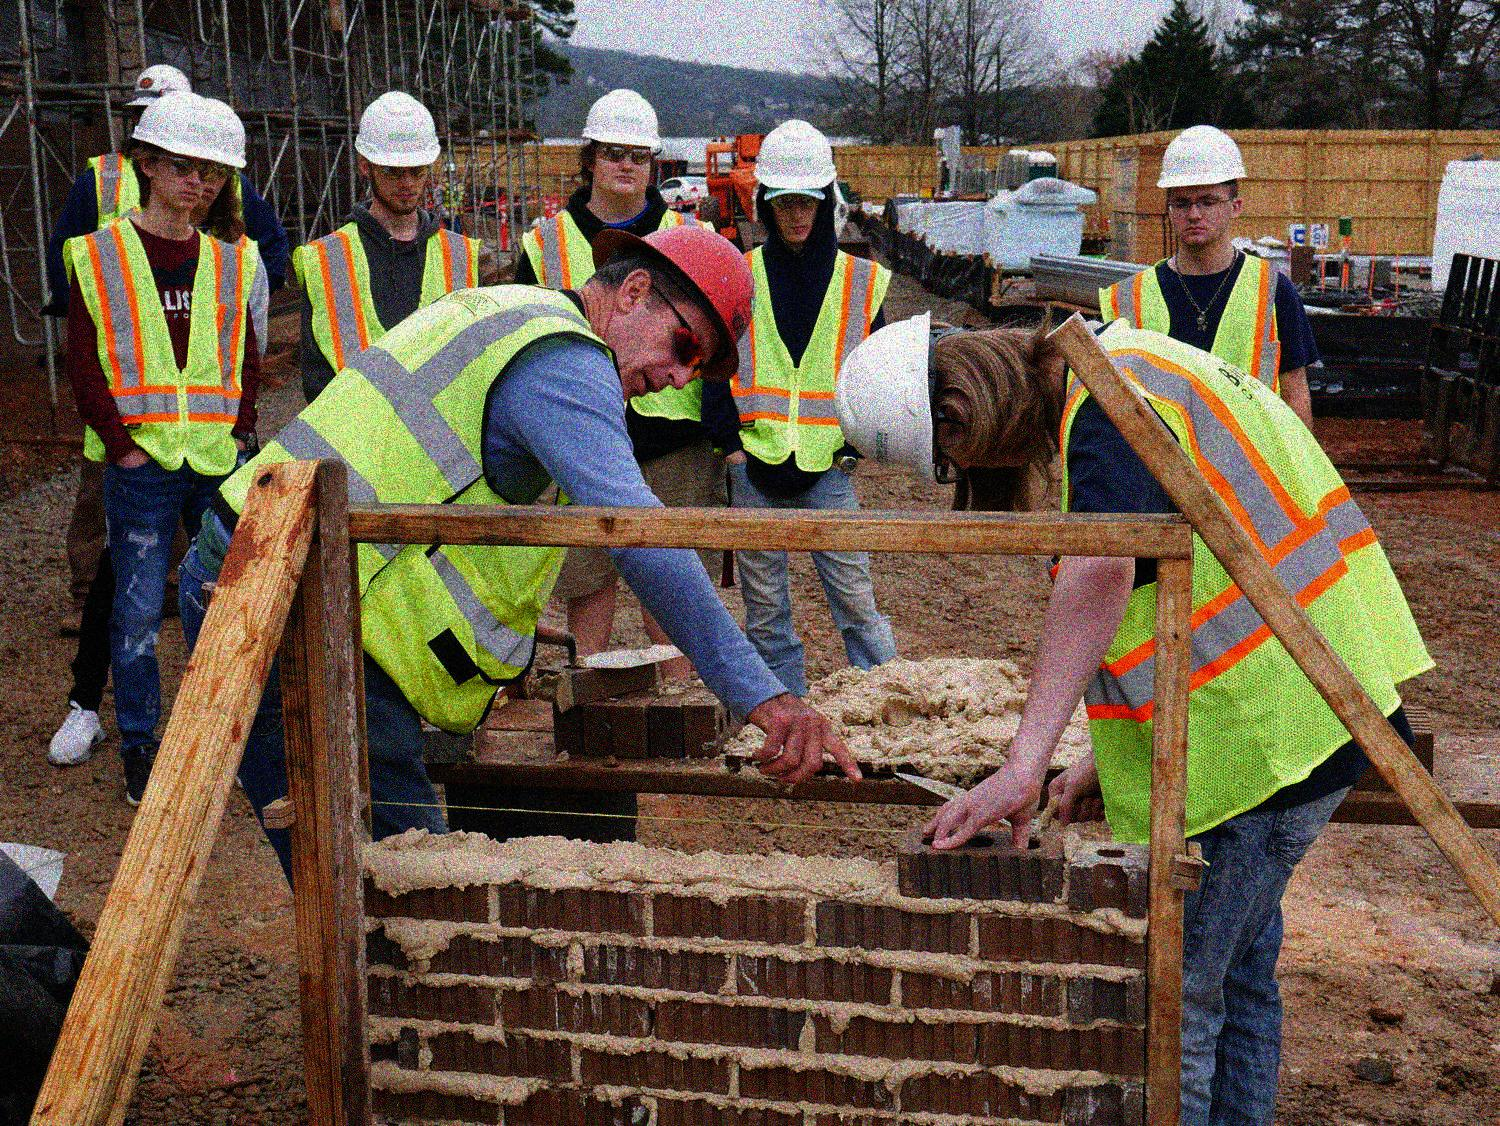helmet: (830, 308, 1033, 487), (584, 214, 754, 413), (125, 89, 231, 213), (342, 90, 448, 211), (751, 116, 843, 245), (1155, 127, 1252, 242), (578, 85, 662, 193), (190, 96, 257, 203), (123, 63, 190, 132)
